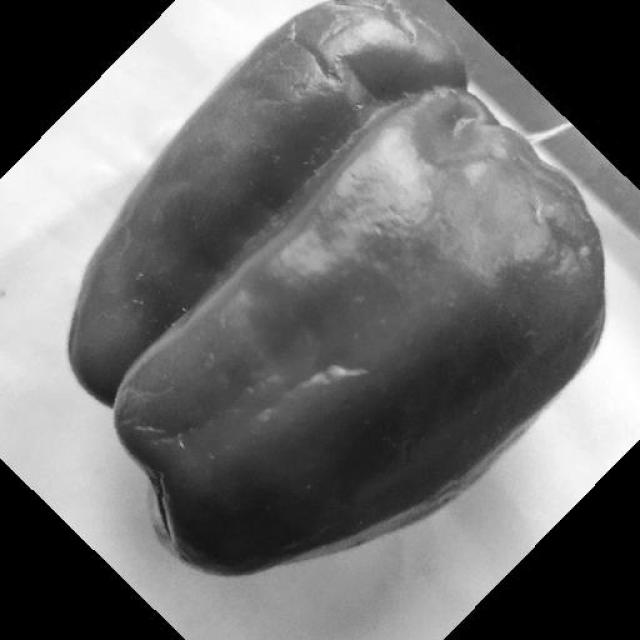Fresh_Capsicum: (108, 44, 524, 520)
